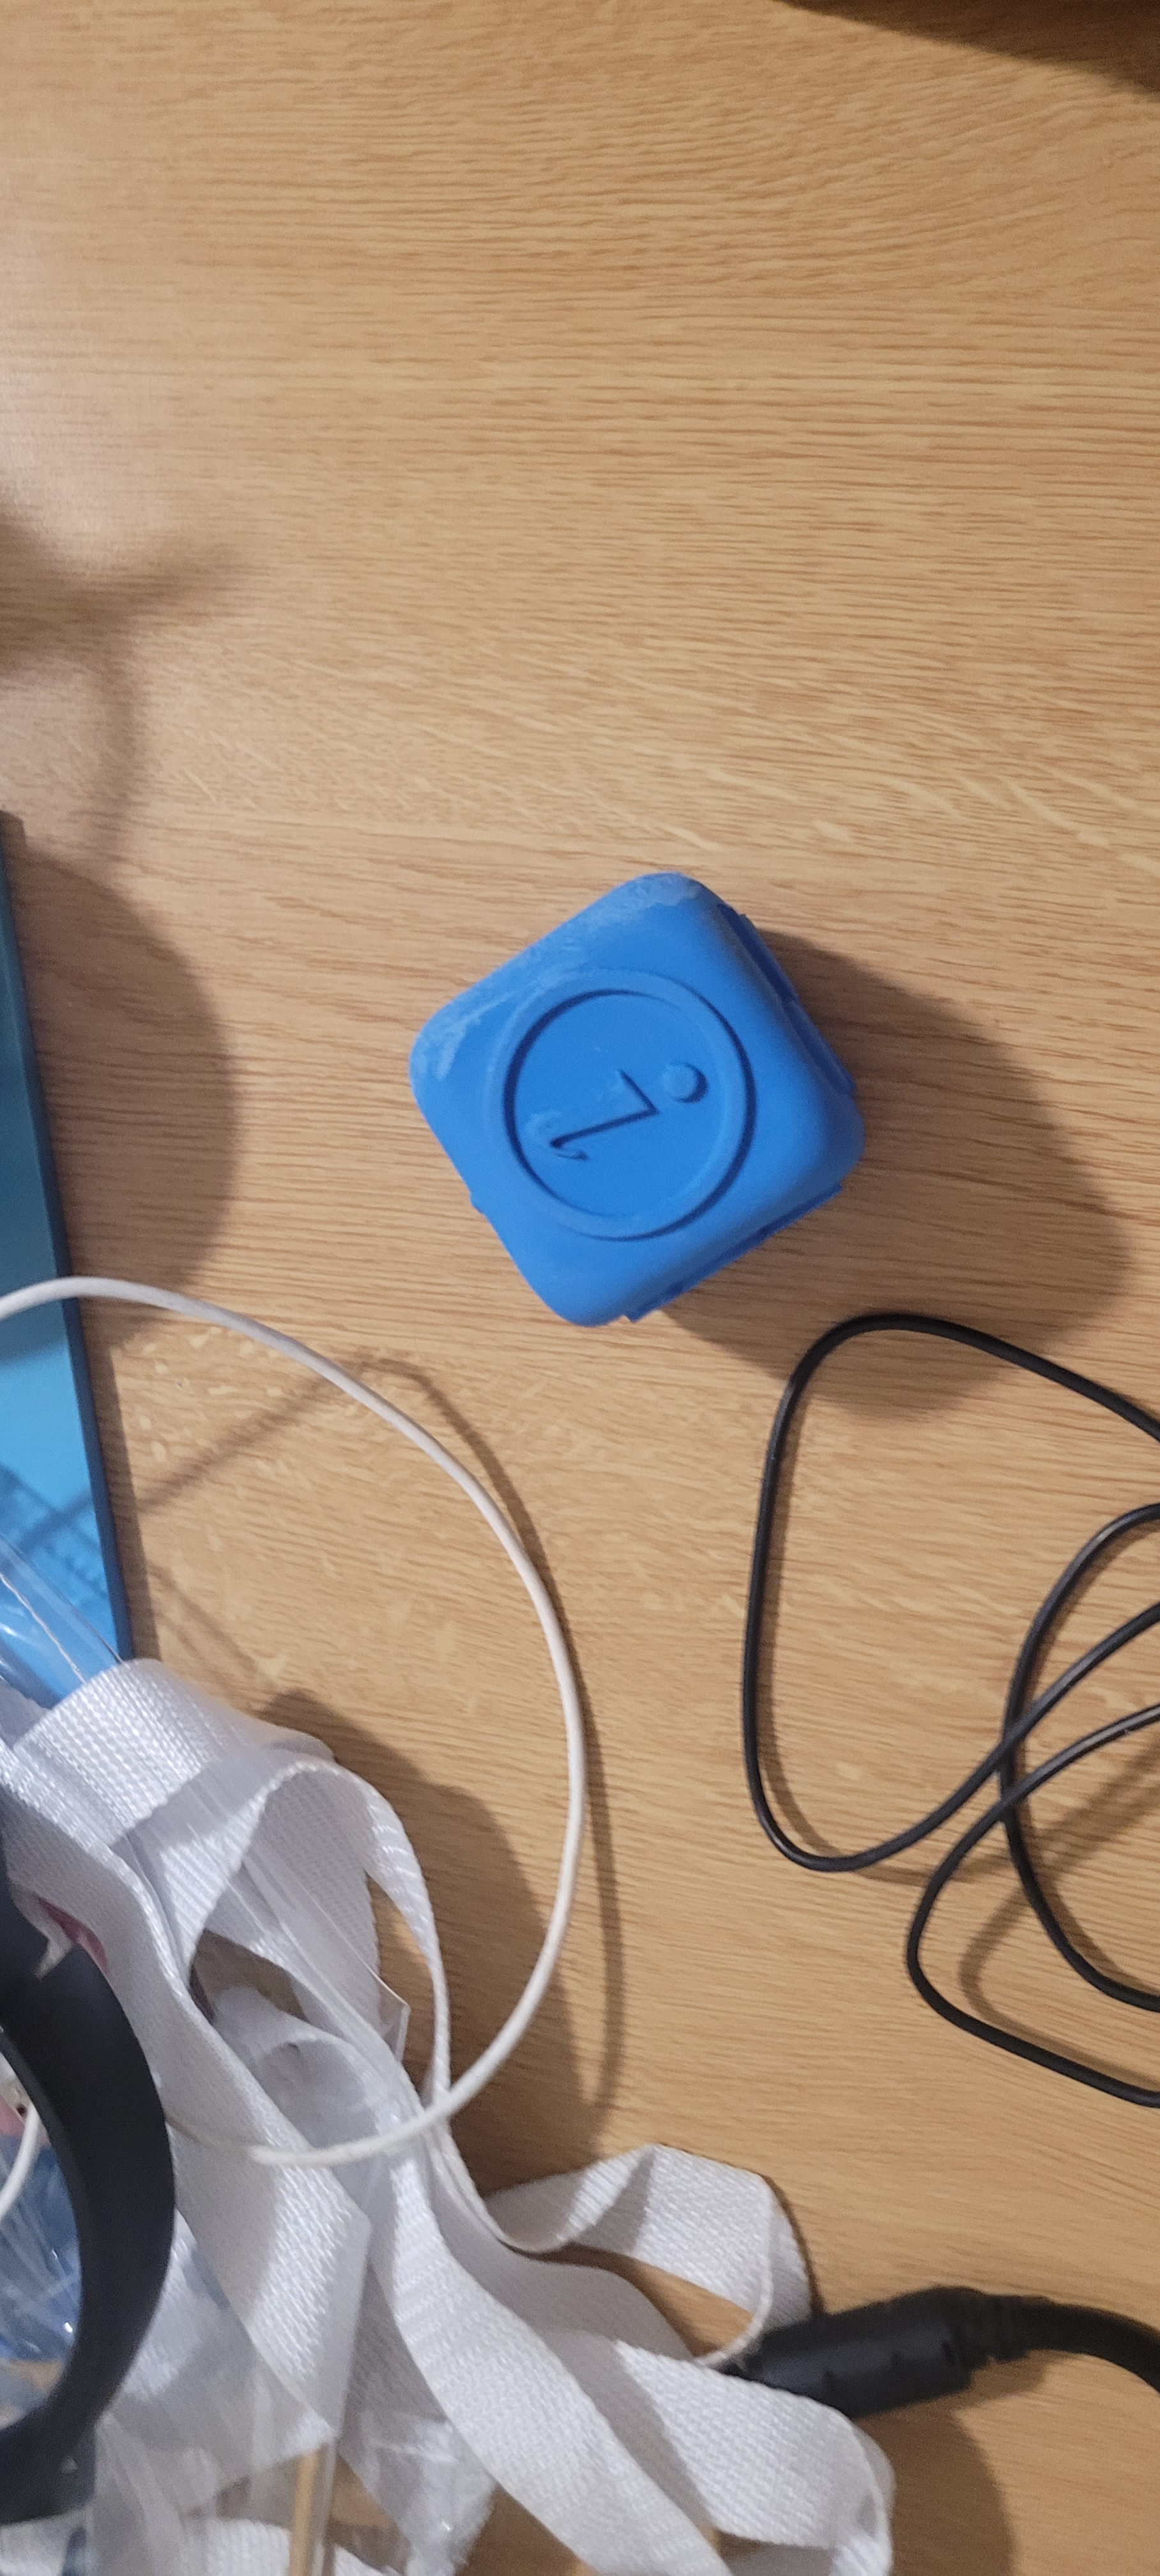Info: (440, 917, 774, 1285)
